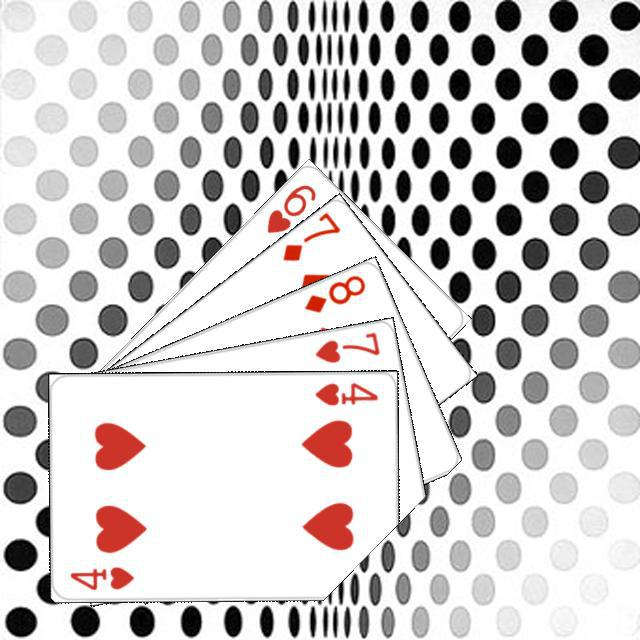4h: (310, 377, 380, 408), (65, 561, 135, 592)
6h: (261, 179, 318, 235)
7d: (277, 208, 342, 264)
7h: (310, 327, 382, 365)
8d: (299, 270, 368, 315)
